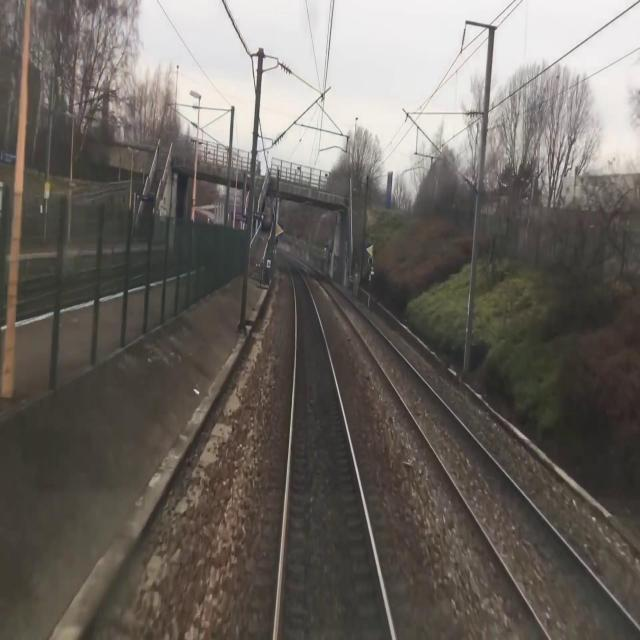rail-track: (296, 258, 640, 639), (277, 263, 392, 639)
